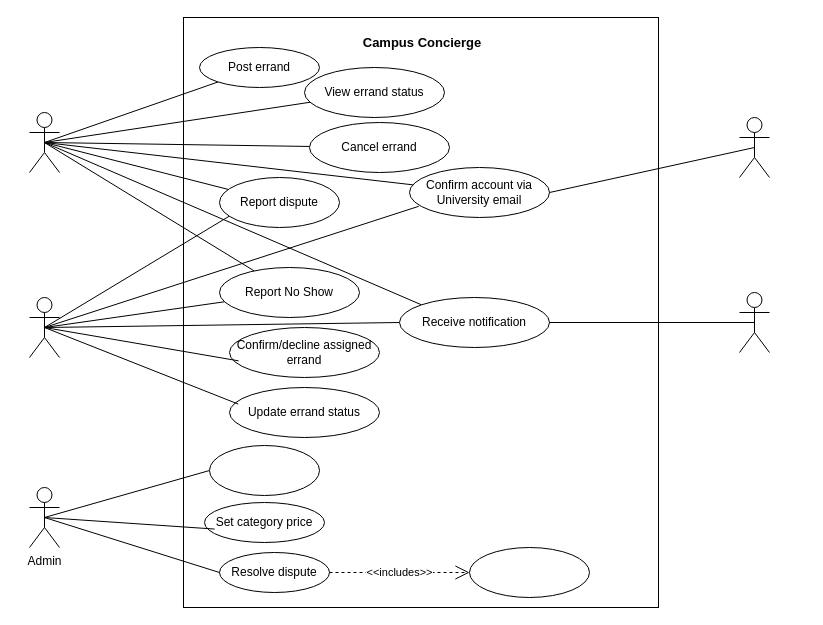
This 823x625 diagram has some shape labels left out. The shapes that lost their labels are listed below. From the top down, each one's centre as x and y in pixels, then its label:
(x=44, y=142): Requester
(x=754, y=147): Identity Service (Supporting)
(x=44, y=327): Helper
(x=754, y=322): Notification Service (Supporting)
(x=264, y=470): Register helper
(x=529, y=572): Review errand history
